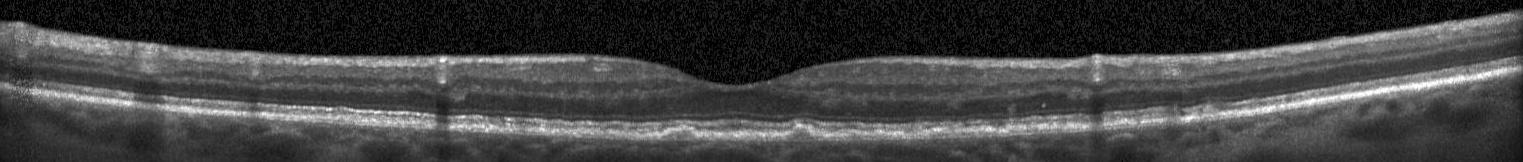retinal_drusen: (1006, 121, 1089, 135), (832, 130, 910, 142), (928, 125, 996, 137), (785, 126, 815, 141), (662, 129, 697, 140)
